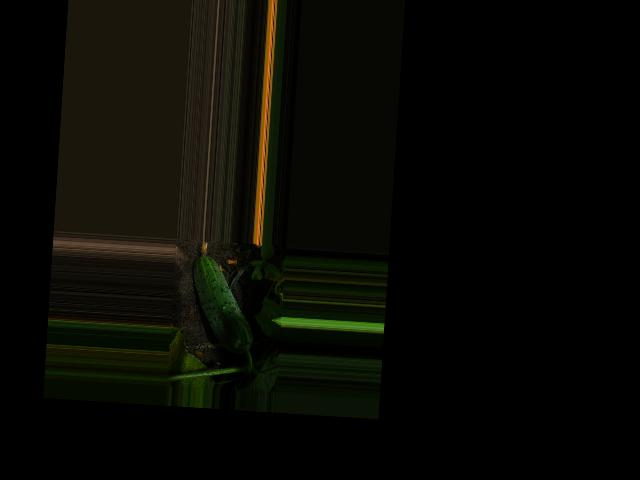cucumber: (187, 240, 258, 354)
